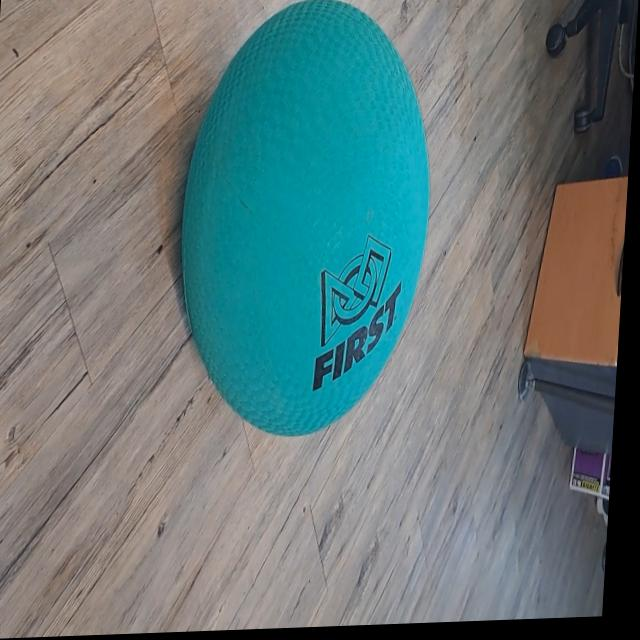ALGAE: (167, 0, 443, 443)
